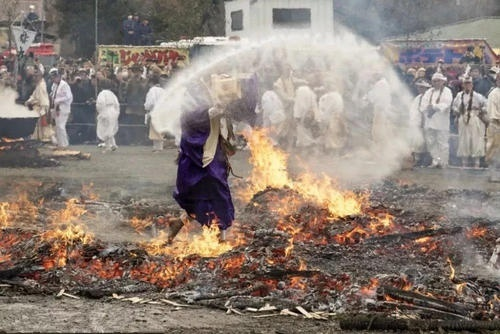fire: (466, 223, 488, 239)
